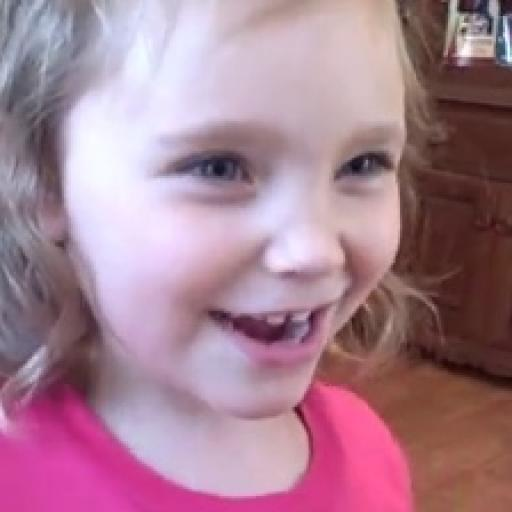Autism: (34, 0, 465, 487)
